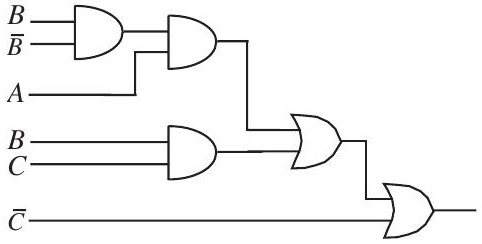and: (158, 11, 221, 75), (158, 121, 221, 184), (65, 2, 126, 63)
or: (284, 107, 345, 176), (377, 178, 438, 242)
